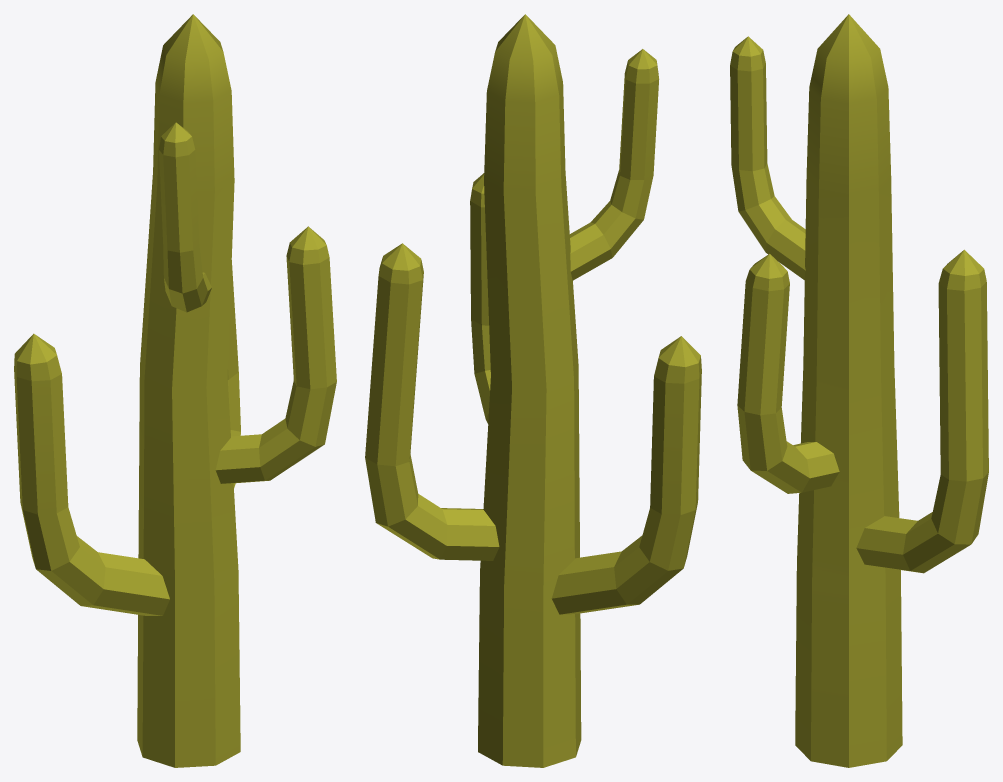
Rendered from Cactus_Yellow_2.fbx.
3 views of the same model, side by side, from view 1: azimuth 30°, elevation 25°; view 2: azimuth 150°, elevation 25°; view 3: azimuth 270°, elevation 25° (orthographic).
Visible parts, largest first — view 1: Cactus; view 2: Cactus; view 3: Cactus.
Part boxes in pixels (box(x1,y1,x2,y2)): Cactus: box(14, 14, 336, 767); Cactus: box(365, 14, 701, 767); Cactus: box(730, 14, 988, 767).
Size of the model in its own units: 153 by 386 by 124.
